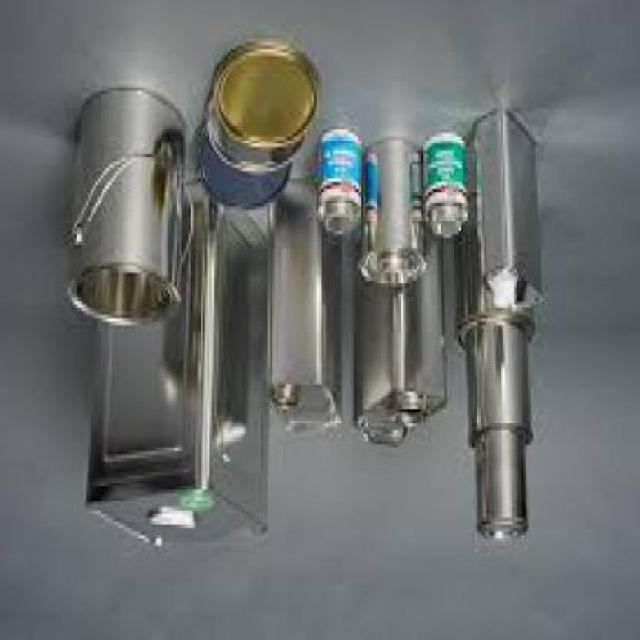METAL: (85, 178, 270, 550), (68, 88, 188, 329), (194, 38, 323, 210), (358, 220, 451, 445), (270, 178, 344, 440), (475, 115, 547, 308), (458, 199, 538, 347), (360, 140, 431, 291), (470, 326, 535, 452), (477, 438, 531, 542), (322, 130, 363, 238), (430, 133, 470, 238)
